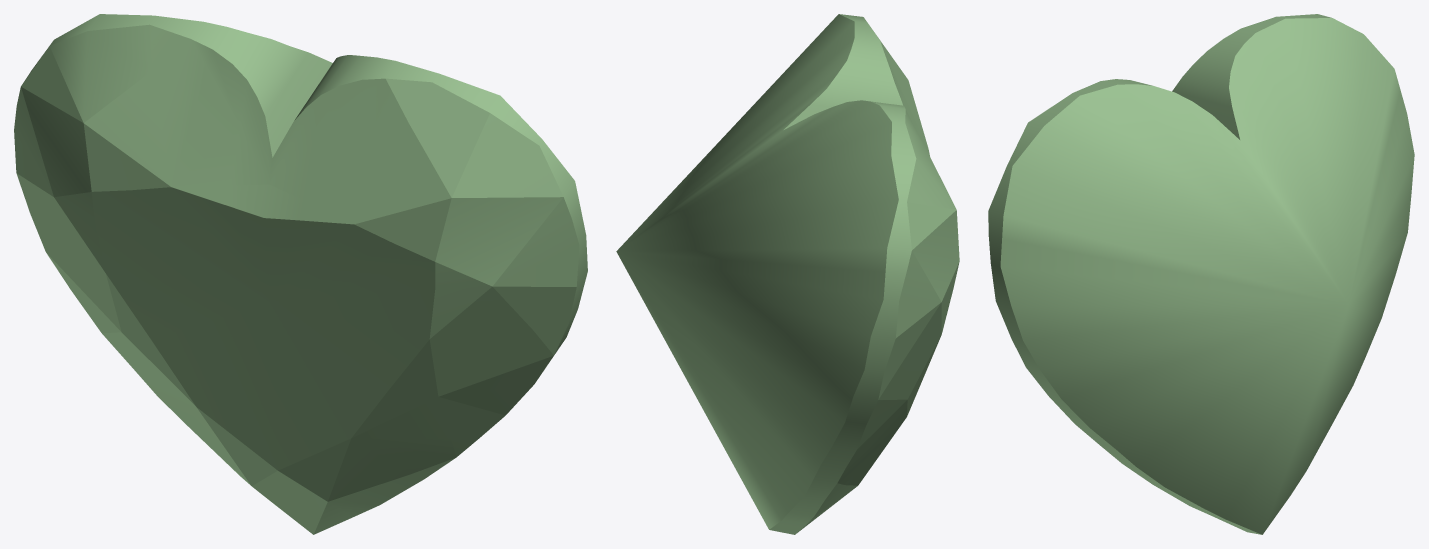
File: TL3_8shapes_heart_Classic_Stone.001 2.glb
3 views of the same model, side by side, from view 1: azimuth 30°, elevation 25°; view 2: azimuth 150°, elevation 25°; view 3: azimuth 270°, elevation 25° (orthographic). The views are drawn at different scales.
Parts seen in each view (by area): view 1: TL3_8shapes_heart_Classic_Stone.001; view 2: TL3_8shapes_heart_Classic_Stone.001; view 3: TL3_8shapes_heart_Classic_Stone.001.
Boxes of the visible parts, x1,y1,x2,y2 form: TL3_8shapes_heart_Classic_Stone.001: [14, 14, 587, 534]; TL3_8shapes_heart_Classic_Stone.001: [616, 14, 959, 534]; TL3_8shapes_heart_Classic_Stone.001: [988, 14, 1414, 534].
Bounding box in the file's own units: 0.373 × 0.5208 × 0.4406.
